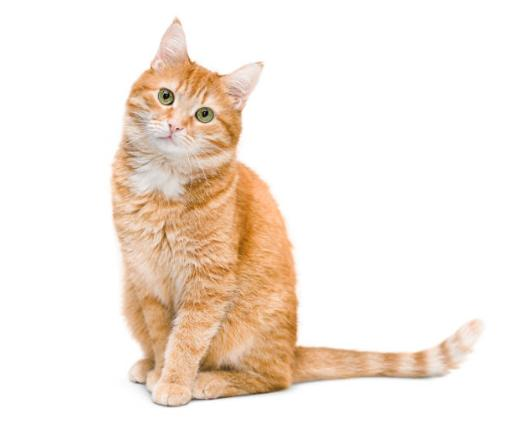cat_sitting: (113, 18, 482, 406)
